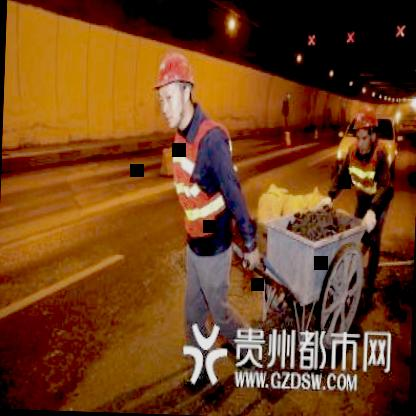helmet: (148, 46, 200, 132), (350, 99, 382, 158)
